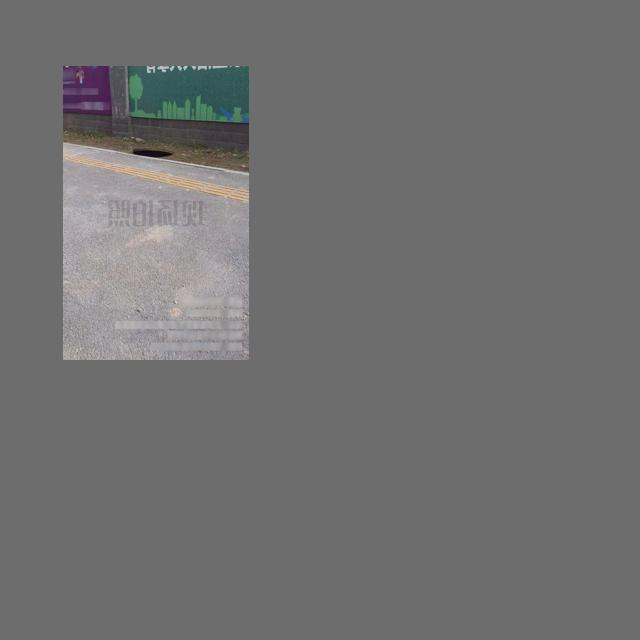lose: (132, 147, 175, 159)
